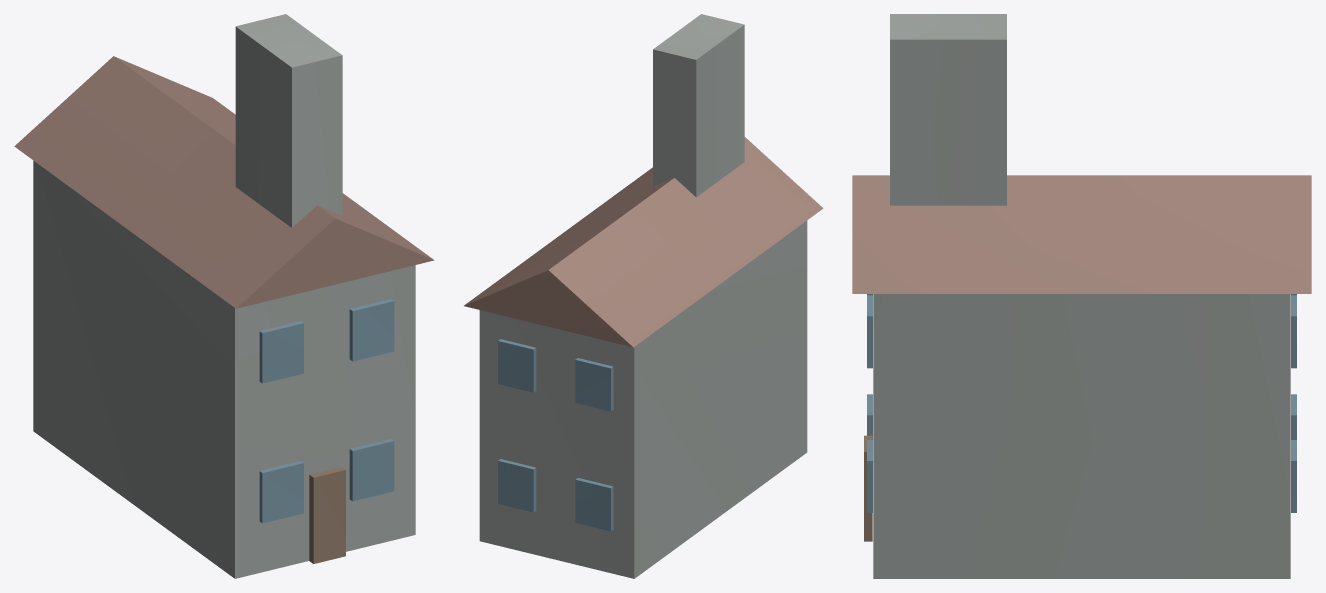
File: church-01.glb
The picture shows the model from 3 angles, left to right: view 1: azimuth 30°, elevation 25°; view 2: azimuth 150°, elevation 25°; view 3: azimuth 270°, elevation 25°; orthographic projection. The views are drawn at different scales.
Parts seen in each view (by area): view 1: world; view 2: world; view 3: world.
Boxes of the visible parts, <box> form: world: <box>14,14,434,578</box>; world: <box>464,14,823,578</box>; world: <box>852,14,1311,578</box>.
Size of the model in its own units: 0.9619 by 2.27 by 1.86.
